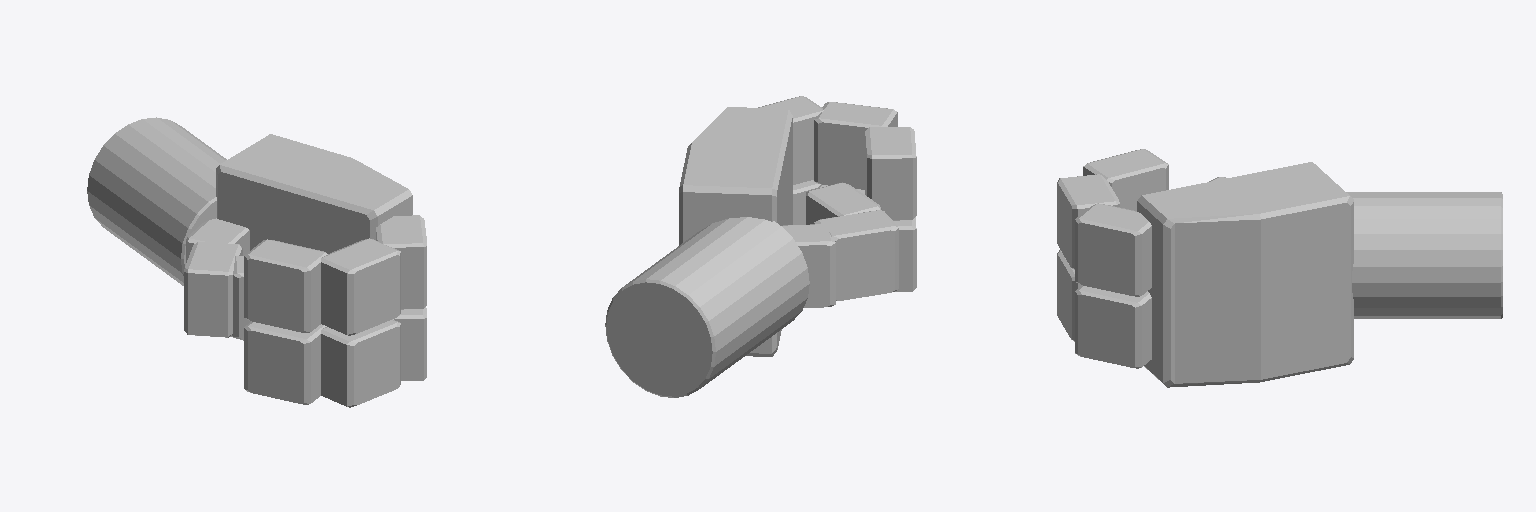
Rendered from r-hand.obj.
The picture shows the model from 3 angles: view 1: azimuth 30°, elevation 25°; view 2: azimuth 150°, elevation 25°; view 3: azimuth 270°, elevation 25°; orthographic projection.
Visible parts, largest first — view 1: r-hand.obj; view 2: r-hand.obj; view 3: r-hand.obj.
Boxes of the visible parts, box(x1,y1,x2,y2) form: r-hand.obj: box(87, 117, 426, 407); r-hand.obj: box(605, 96, 916, 397); r-hand.obj: box(1057, 149, 1502, 387).
Size of the model in its own units: 0.0988 by 0.08 by 0.1918.